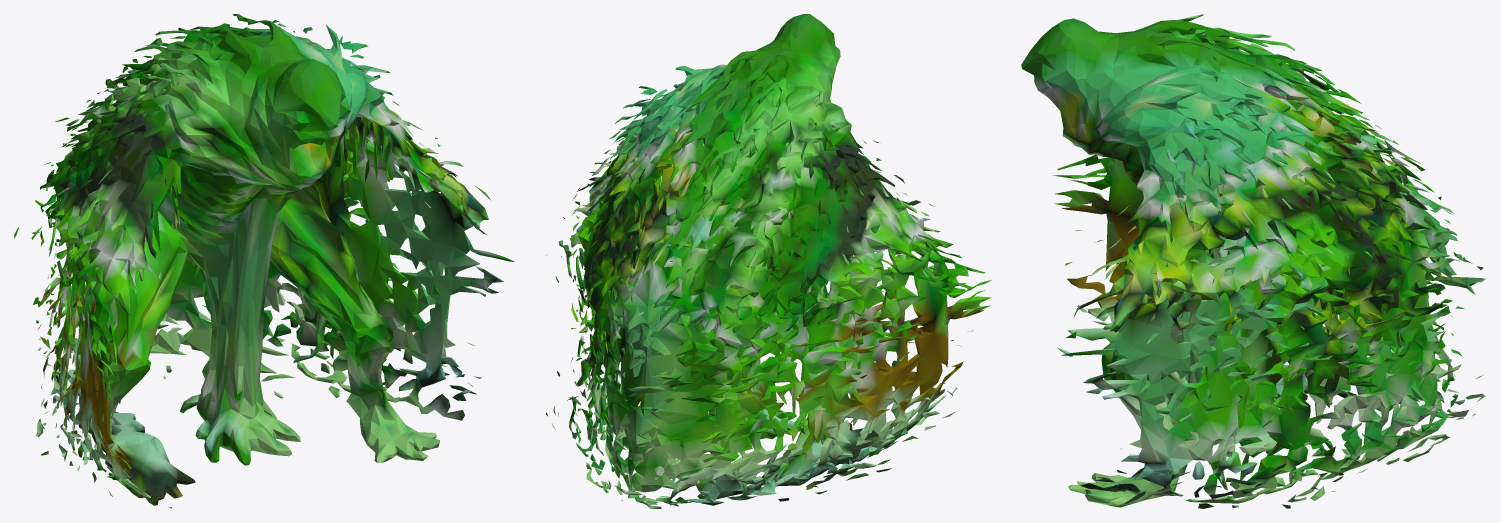
The model's file is shark.glb.
The picture shows the model from 3 angles, left to right: view 1: azimuth 30°, elevation 25°; view 2: azimuth 150°, elevation 25°; view 3: azimuth 270°, elevation 25°; orthographic projection. The views are drawn at different scales.
Parts seen in each view (by area): view 1: world; view 2: world; view 3: world.
Part boxes in pixels (x1=…): world: x1=14, y1=14, x2=514, y2=508; world: x1=546, y1=14, x2=991, y2=508; world: x1=1021, y1=14, x2=1485, y2=508.
Bounding box in the file's own units: 0.9885 × 1 × 0.997.
